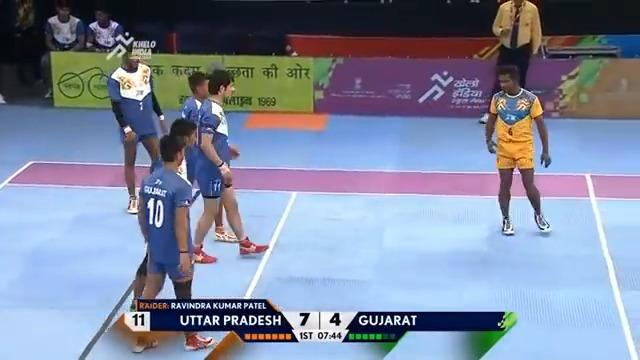Player: (129, 132, 214, 352), (187, 68, 269, 263), (106, 42, 168, 213), (472, 0, 542, 124), (39, 1, 85, 98), (85, 8, 124, 52)
Raider: (484, 63, 552, 235)
